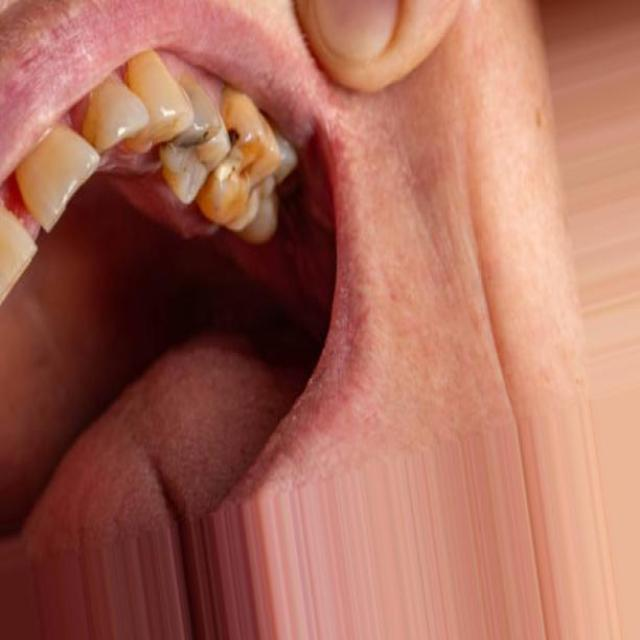caries: (210, 121, 264, 190)
